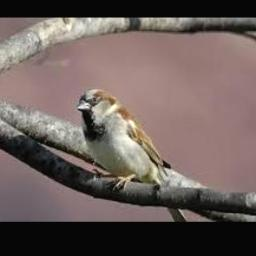Sparrow: (77, 89, 188, 222)
